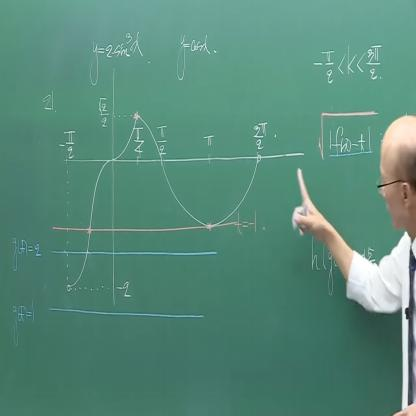streamer: (291, 113, 416, 416)
